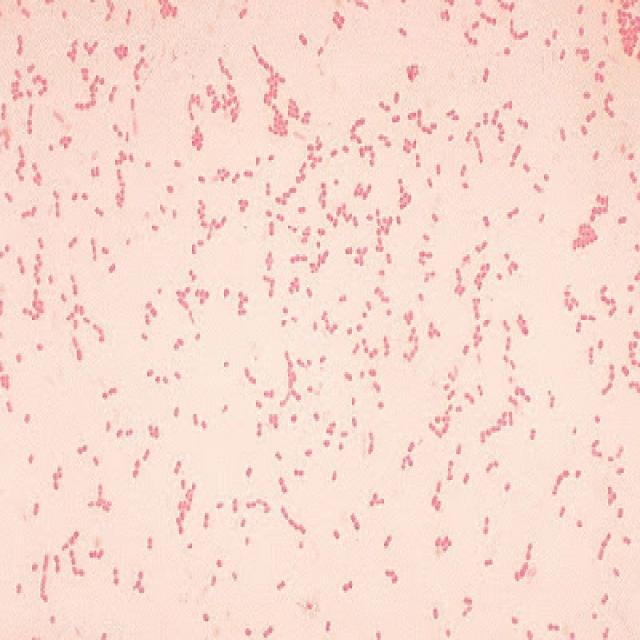Amoeba: (2, 0, 640, 637)
